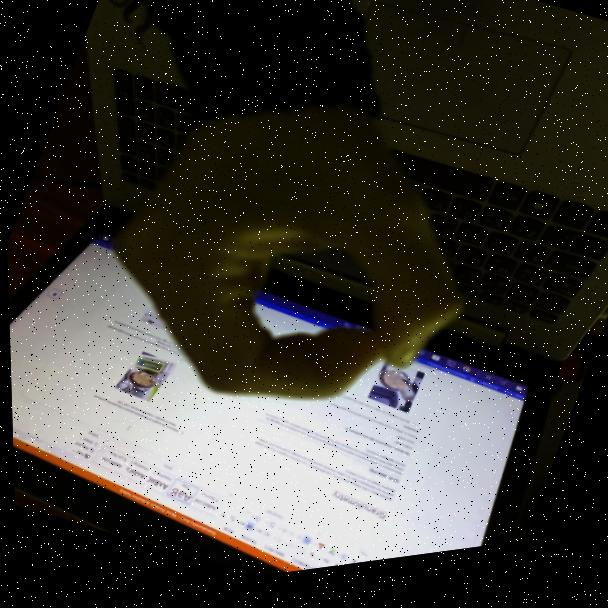five: (8, 0, 563, 532)
